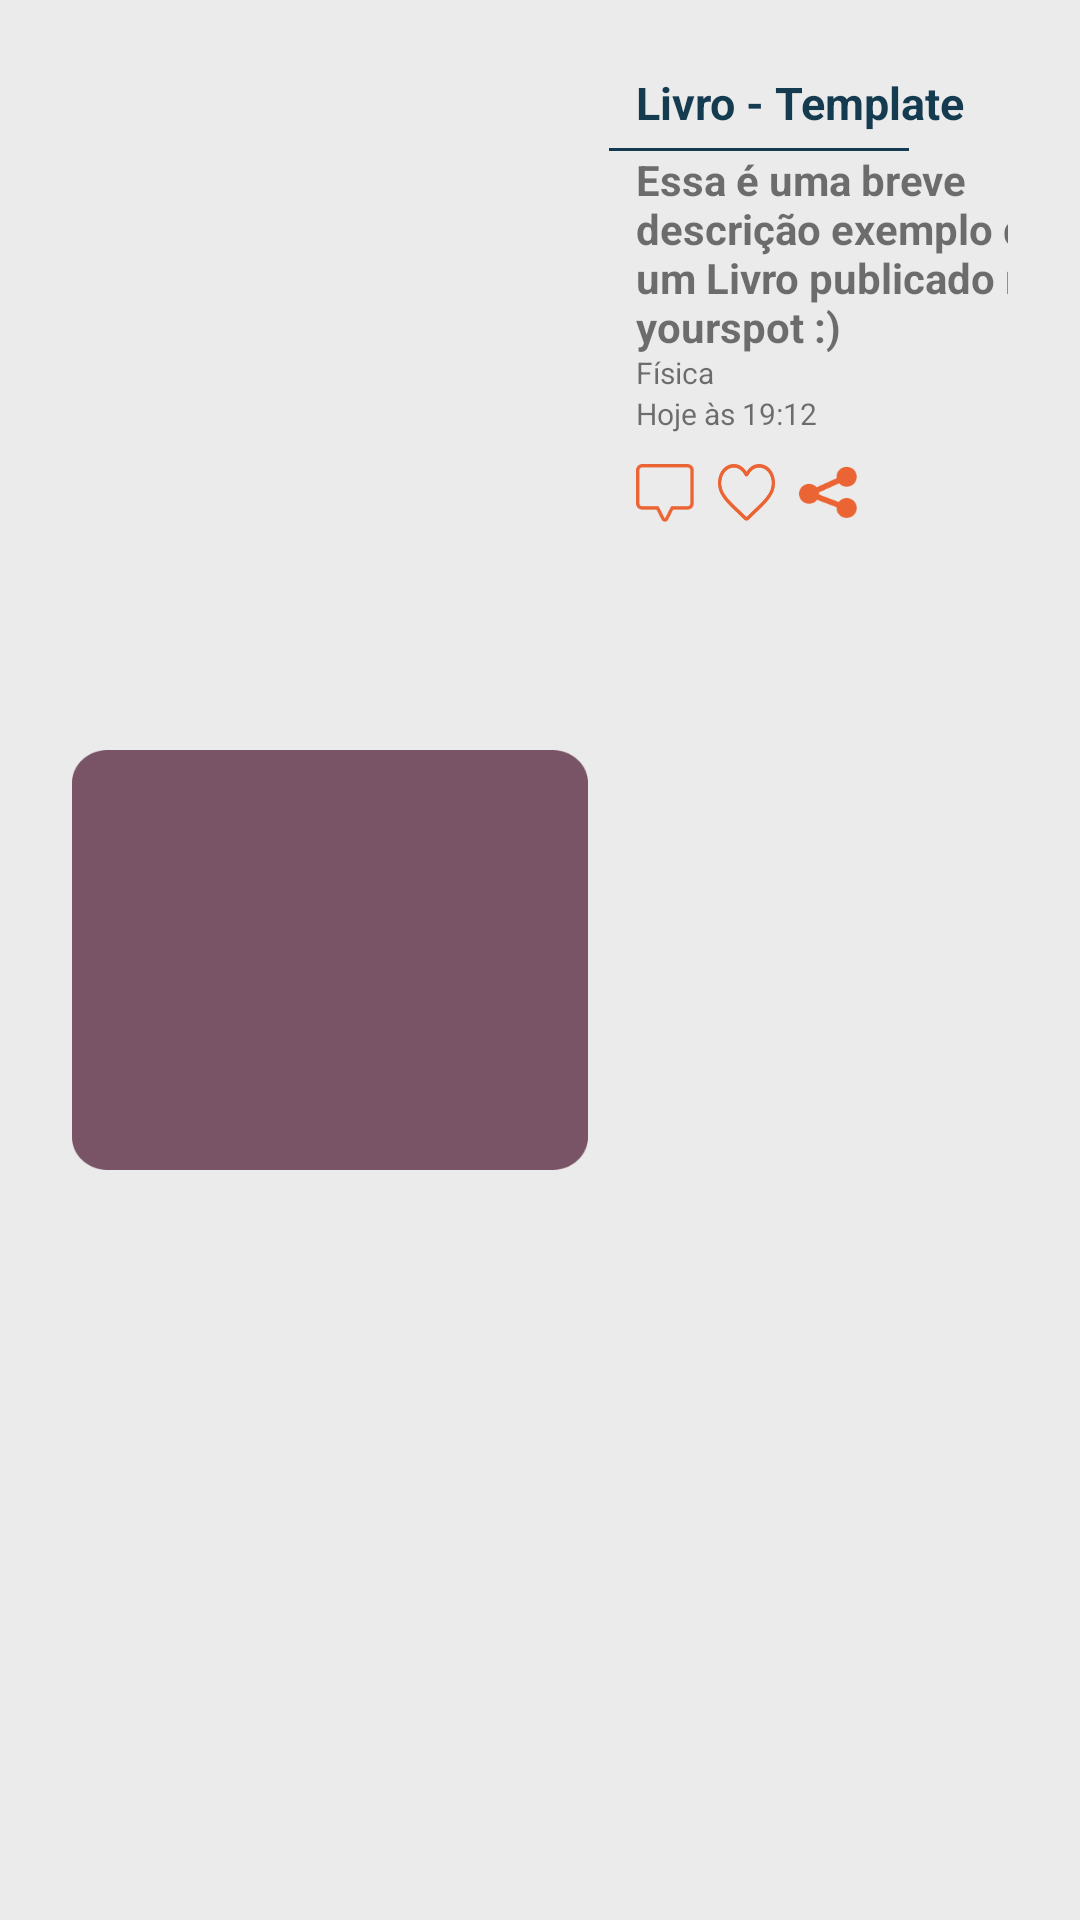

Screen size 1080×1920. Icon name, then its center in pixels as [x,y]:
chat: [665,493]
compartilhar: [828,492]
iconecoracao menuinf: [746,492]
